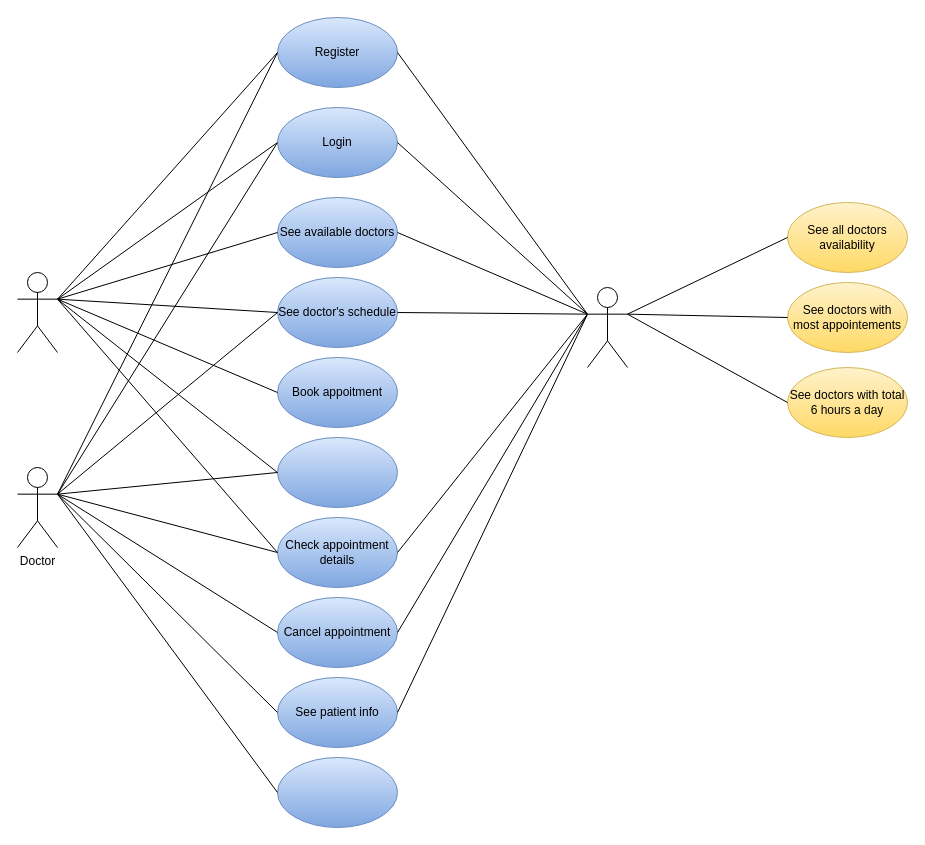
Some shapes in this 925 by 845 pixel diagram are drawn without their labels. Here are the shapes that lost their labels. From the top down, the centre of each, then its label:
At point (37, 312): "Patient".
At point (607, 327): "Admin".
At point (337, 472): "See patient appointment history".
At point (337, 792): "See related appointments details".
